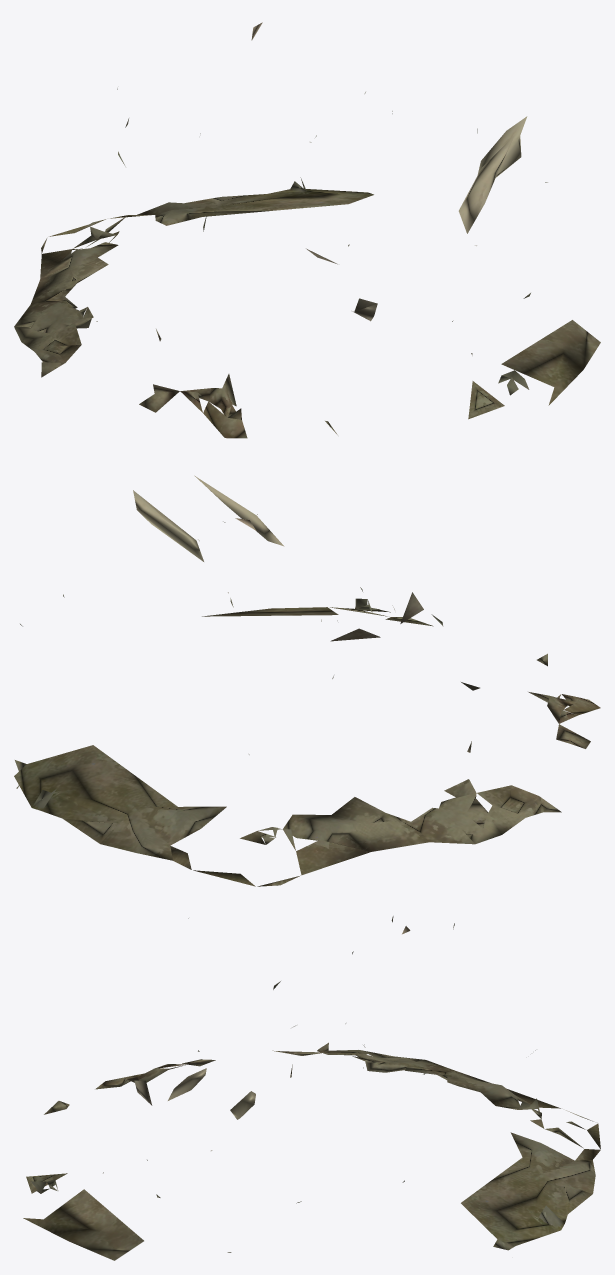
Rendered from tundra-bush-2.glb.
The picture shows the model from 3 angles, top to bottom: view 1: azimuth 30°, elevation 25°; view 2: azimuth 150°, elevation 25°; view 3: azimuth 270°, elevation 25°; orthographic projection. The views are drawn at different scales.
Parts seen in each view (by area): view 1: geometry_0; view 2: geometry_0; view 3: geometry_0.
Part boxes in pixels (<box>): geometry_0: <box>14,22,600,438</box>; geometry_0: <box>14,475,600,886</box>; geometry_0: <box>23,916,600,1260</box>.
Size of the model in its own units: 0.791 by 0.4179 by 0.8415.
1 material, 1 textured.
